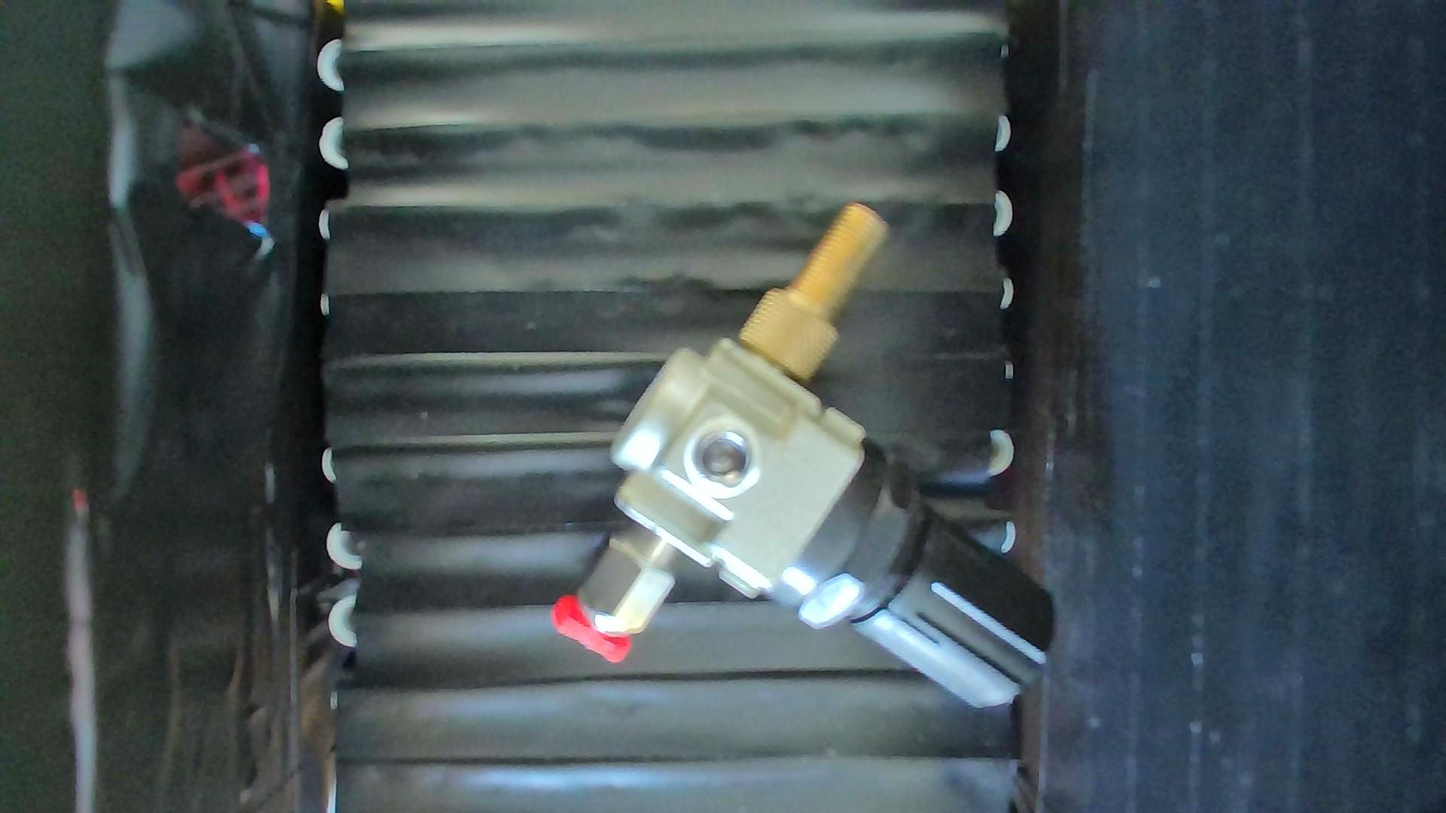regulator: (550, 203, 1056, 711)
